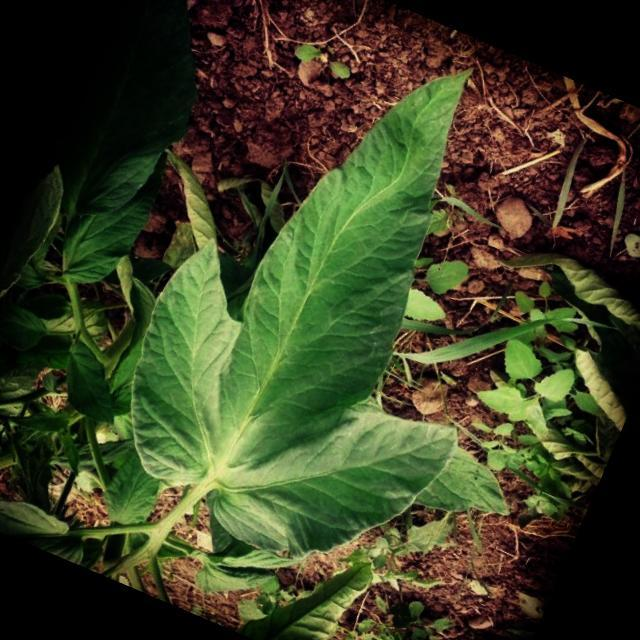Tomato healthy leaf: (128, 70, 469, 554), (25, 0, 262, 242), (50, 125, 176, 298), (46, 338, 140, 431)
